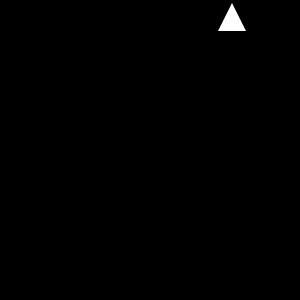triangle: (218, 3, 246, 31)
